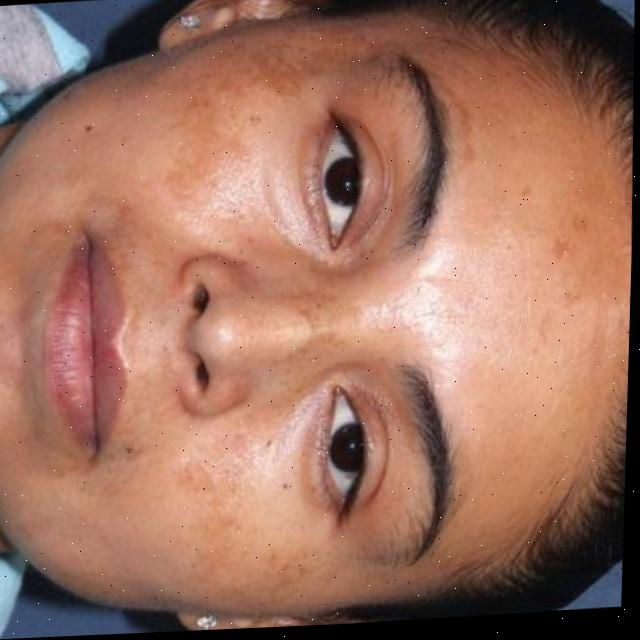Melasma: (160, 451, 292, 601), (172, 38, 280, 186), (529, 204, 600, 310), (301, 287, 346, 356)
